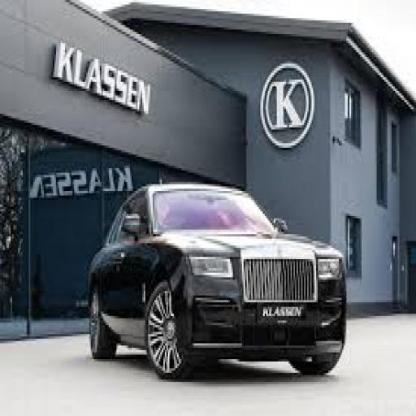car: (76, 177, 353, 393)
